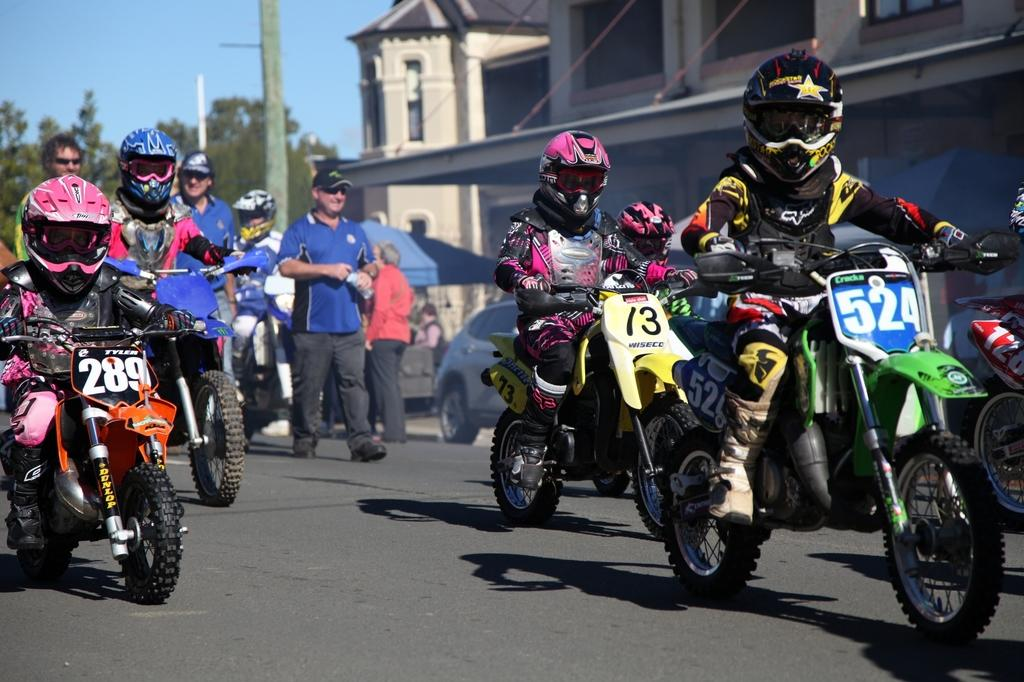helmet: (742, 51, 844, 187), (21, 174, 112, 297), (538, 129, 612, 218), (118, 127, 178, 204), (615, 200, 677, 273), (232, 189, 277, 241)
nohelmet: (40, 132, 86, 187), (310, 167, 353, 218), (177, 151, 216, 200), (369, 241, 402, 275), (421, 302, 438, 325)
